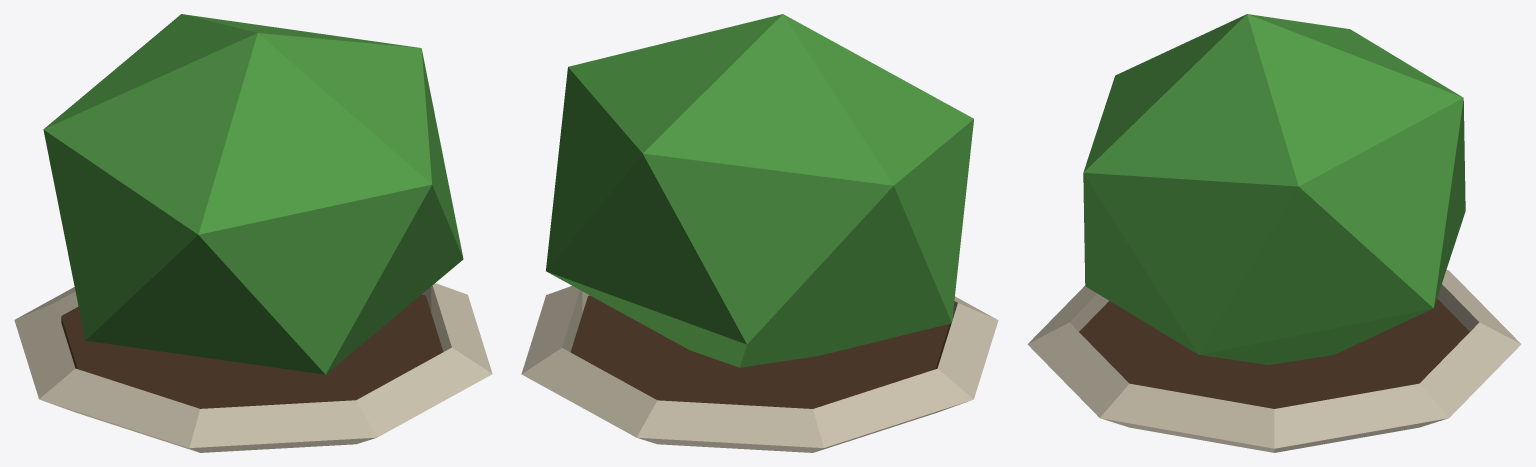
3 views of the same model, side by side, from view 1: azimuth 30°, elevation 25°; view 2: azimuth 150°, elevation 25°; view 3: azimuth 270°, elevation 25° (orthographic).
Parts seen in each view (by area): view 1: WK_TownFlora_ClippedBoxwoodMound_LOD2_Compact; view 2: WK_TownFlora_ClippedBoxwoodMound_LOD2_Compact; view 3: WK_TownFlora_ClippedBoxwoodMound_LOD2_Compact.
Boxes of the visible parts, x1,y1,x2,y2 form: WK_TownFlora_ClippedBoxwoodMound_LOD2_Compact: (14,14,492,452); WK_TownFlora_ClippedBoxwoodMound_LOD2_Compact: (521,14,998,452); WK_TownFlora_ClippedBoxwoodMound_LOD2_Compact: (1027,14,1521,452).
Size of the model in its own units: 1.94 by 1.51 by 1.94.
